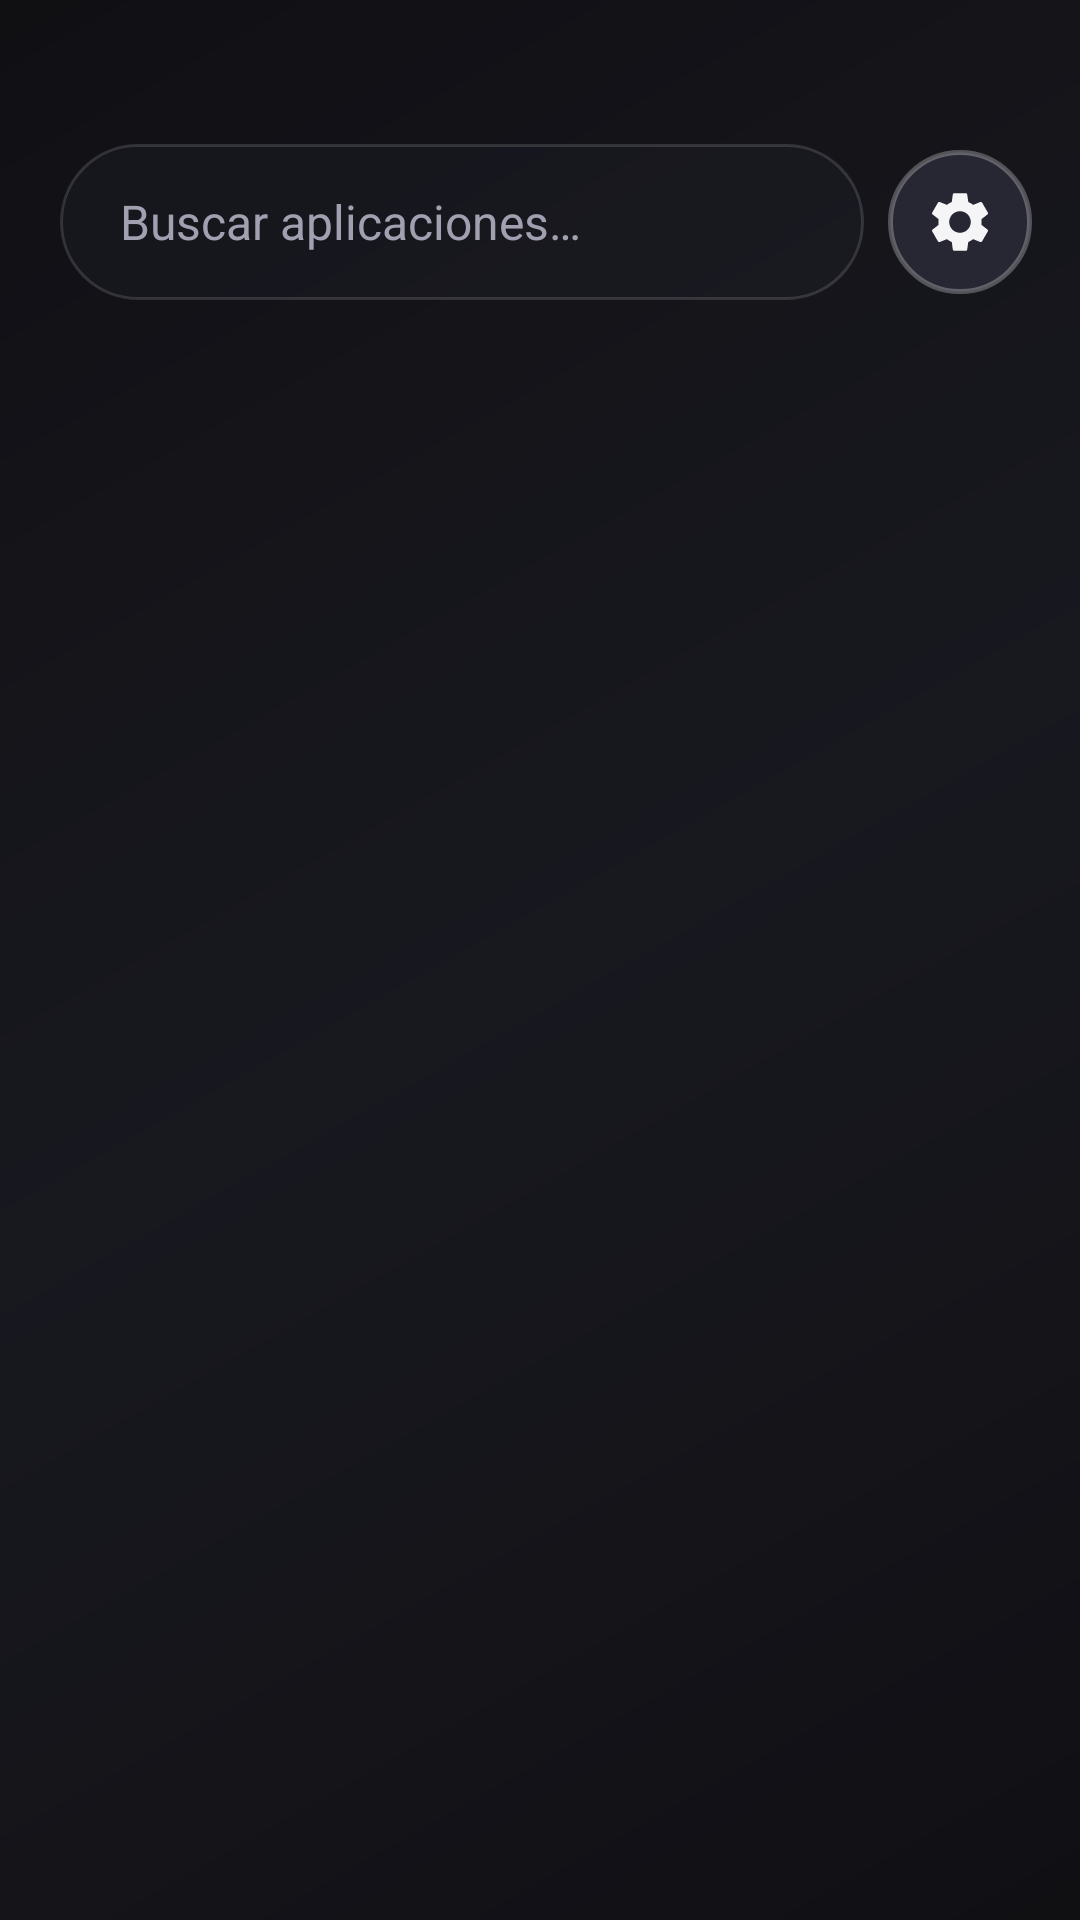

Named icons in this screenshot (1080×1920) and their centers, (x,y):
Ajustes: (960,222)
